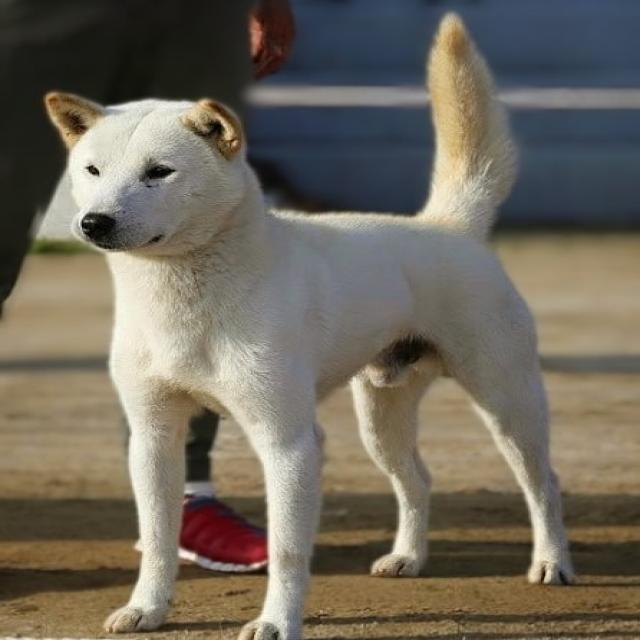dog: (45, 15, 574, 639)
